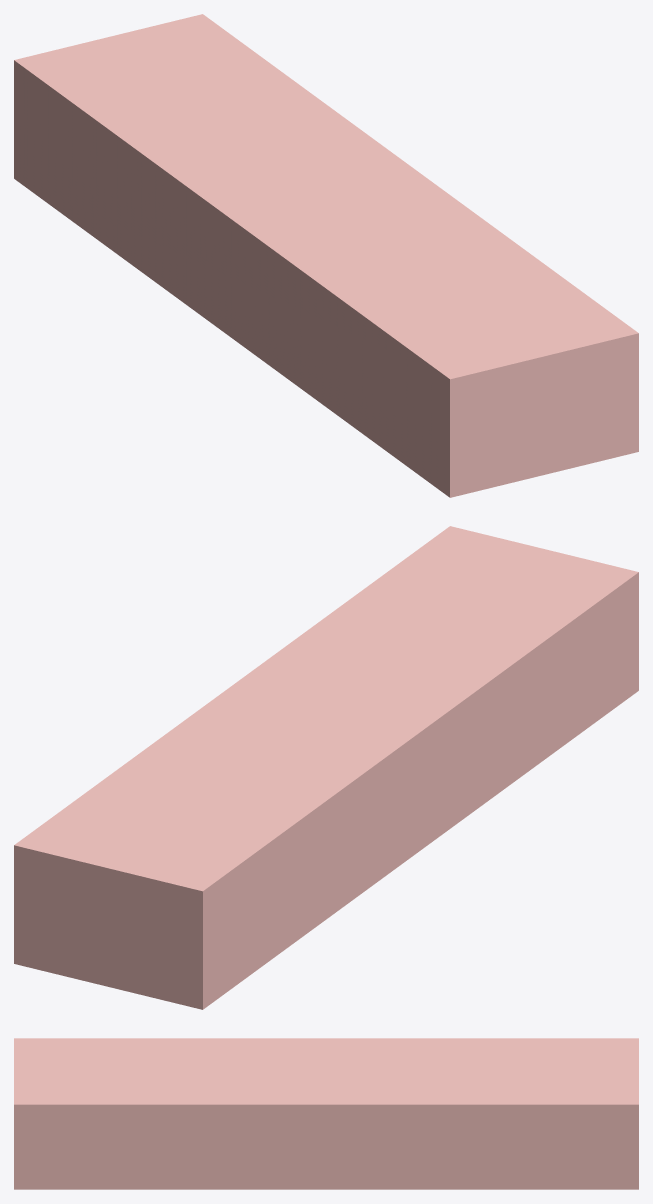
Rendered from Stairs.fbx.
3 renders of one model, top to bottom at view 1: azimuth 30°, elevation 25°; view 2: azimuth 150°, elevation 25°; view 3: azimuth 270°, elevation 25°, orthographic. The views are drawn at different scales.
Visible parts, largest first — view 1: Stairs; view 2: Stairs; view 3: Stairs.
Part boxes in pixels (<box>): Stairs: <box>14,14,638,497</box>; Stairs: <box>14,526,638,1009</box>; Stairs: <box>14,1038,638,1189</box>.
Bounding box in the file's own units: 0.5 × 0.3 × 2.
